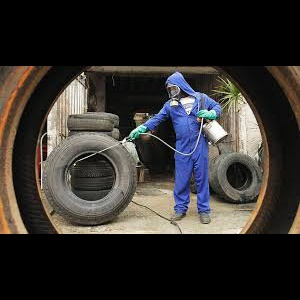tire: (43, 132, 137, 226), (214, 154, 263, 206), (66, 113, 115, 132)
